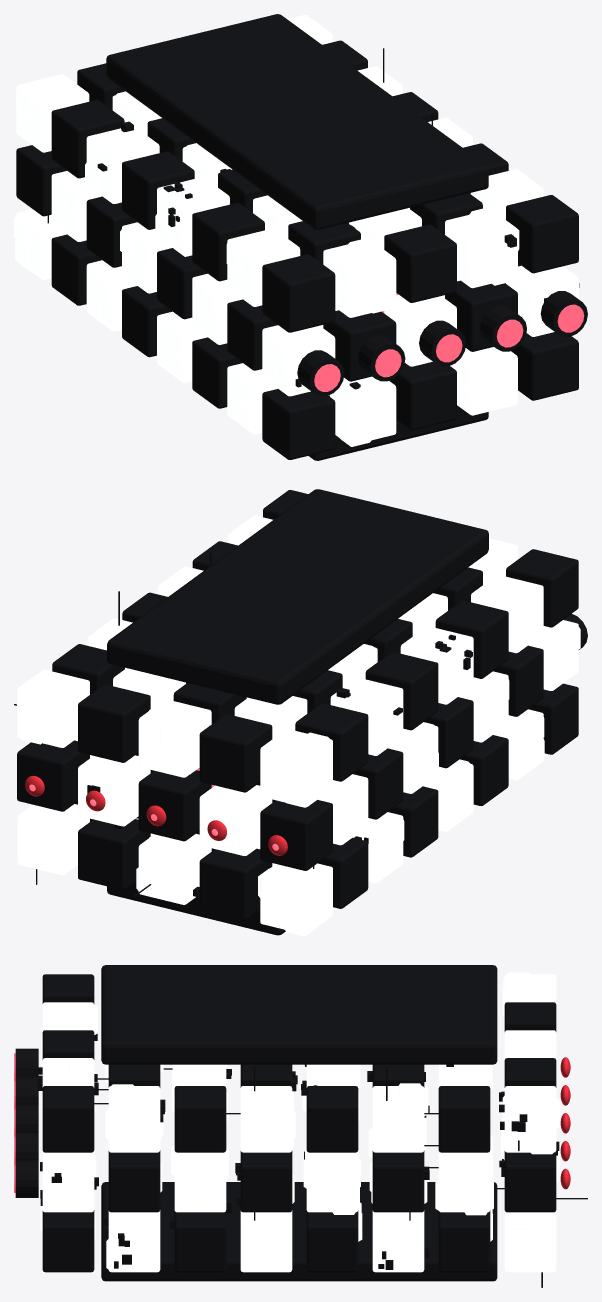
The model's file is nyx_titan.glb.
3 renders of one model, top to bottom at view 1: azimuth 30°, elevation 25°; view 2: azimuth 150°, elevation 25°; view 3: azimuth 270°, elevation 25°, orthographic. The views are drawn at different scales.
Visible parts, largest first — view 1: nyx_titan; view 2: nyx_titan; view 3: nyx_titan.
Part boxes in pixels (box(x1,y1,x2,y2)): nyx_titan: box(14, 14, 587, 460); nyx_titan: box(14, 489, 587, 936); nyx_titan: box(14, 965, 587, 1287).
Bounding box in the file's own units: 6.18 × 4.74 × 10.31.
